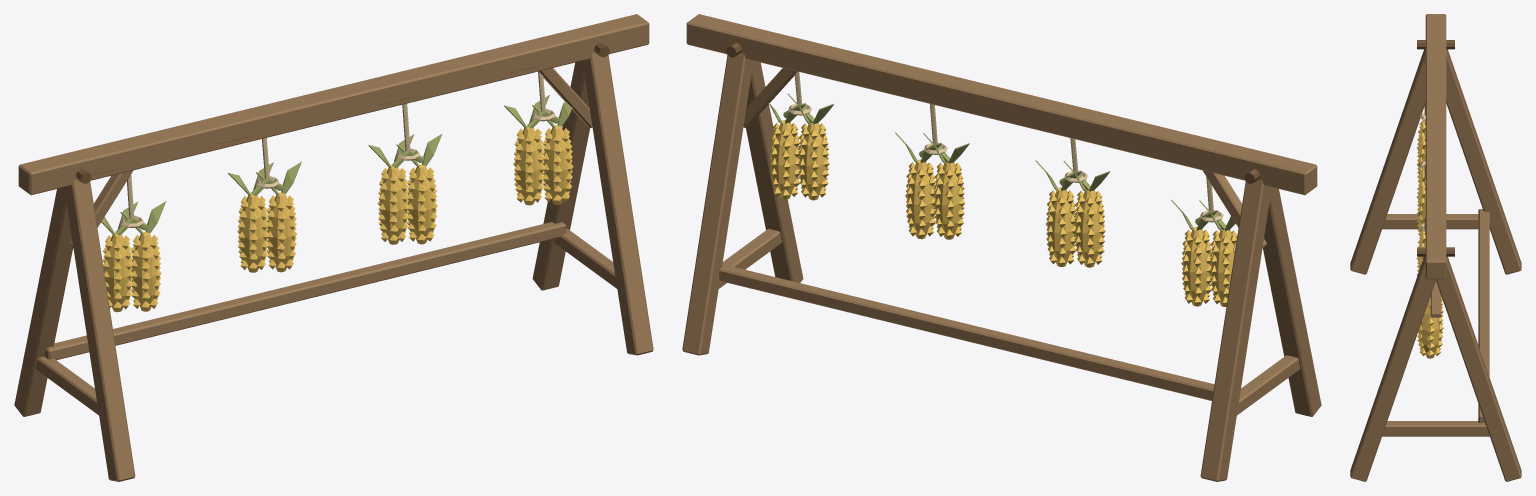
Rendered from corn-drying-rack-v001.glb.
3 views of the same model, side by side, from view 1: azimuth 30°, elevation 25°; view 2: azimuth 150°, elevation 25°; view 3: azimuth 270°, elevation 25° (orthographic). The views are drawn at different scales.
Parts seen in each view (by area): view 1: CornDryingRack; view 2: CornDryingRack; view 3: CornDryingRack.
Part boxes in pixels (bbox=[...]): CornDryingRack: bbox=[14, 14, 653, 481]; CornDryingRack: bbox=[682, 14, 1321, 481]; CornDryingRack: bbox=[1350, 14, 1521, 481].
Size of the model in its own units: 2.56 by 1.15 by 0.748.
